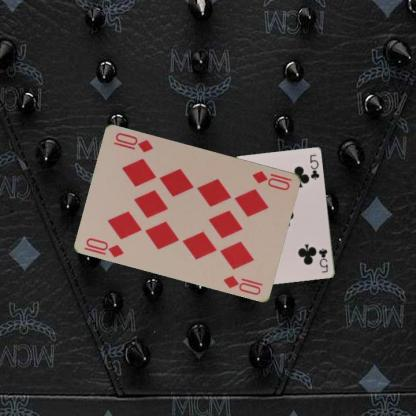10d: (250, 167, 294, 192), (84, 235, 126, 258)
5c: (316, 245, 329, 274)
